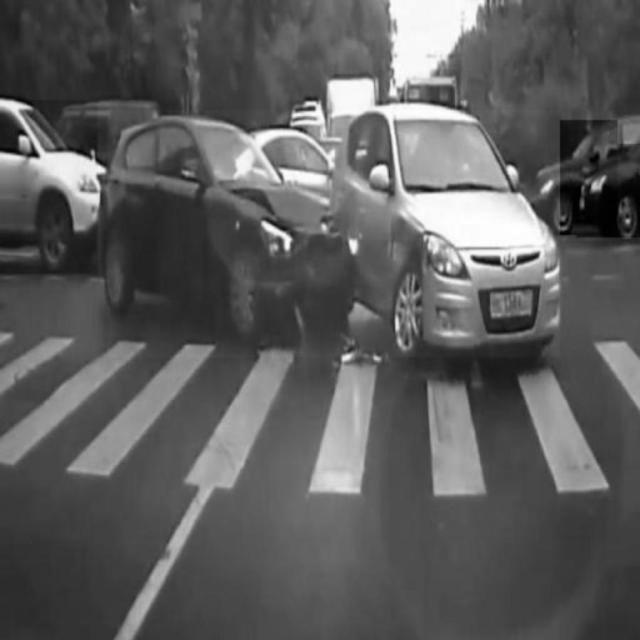accident: (107, 110, 559, 358)
vehicle: (0, 100, 98, 274), (535, 120, 618, 236), (576, 144, 640, 237)
